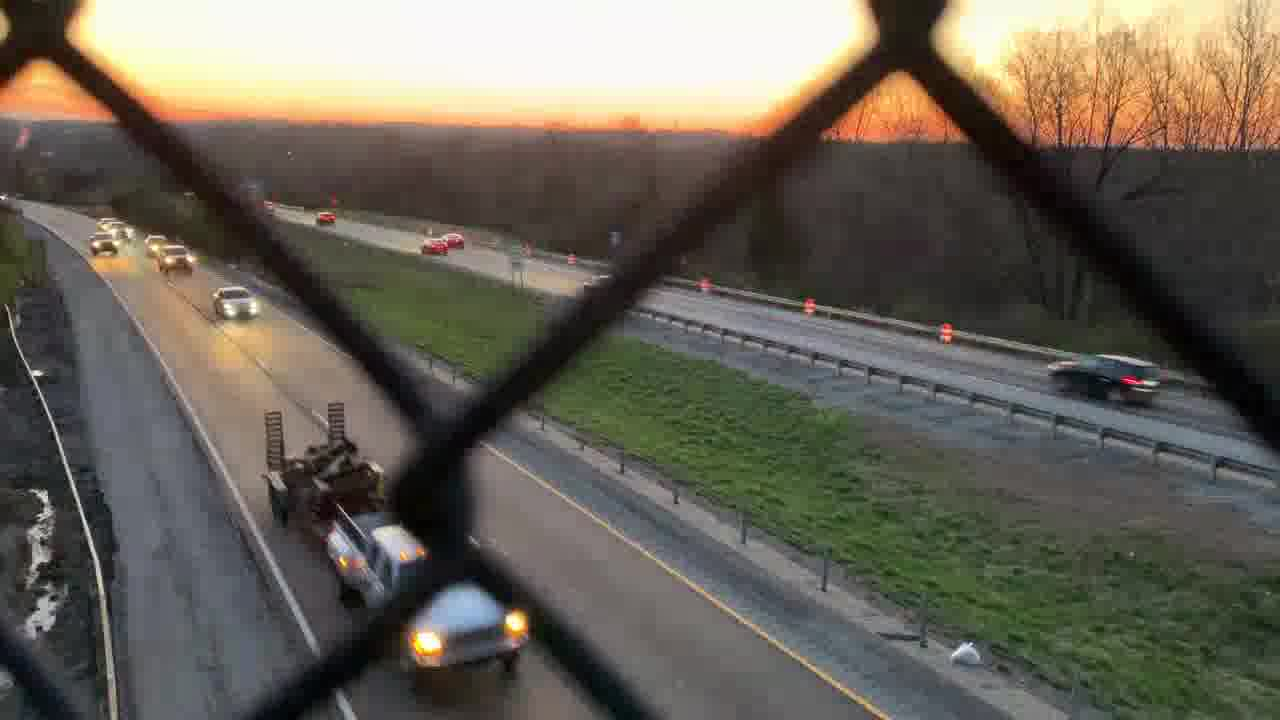largeCar: (1046, 345, 1163, 404)
lightTruck: (261, 398, 538, 684)
smallCar: (421, 233, 449, 255)
vehicle: (206, 281, 265, 325), (155, 243, 201, 273), (84, 227, 119, 260), (103, 221, 140, 242), (142, 235, 169, 257), (440, 228, 471, 247), (313, 208, 337, 227)
